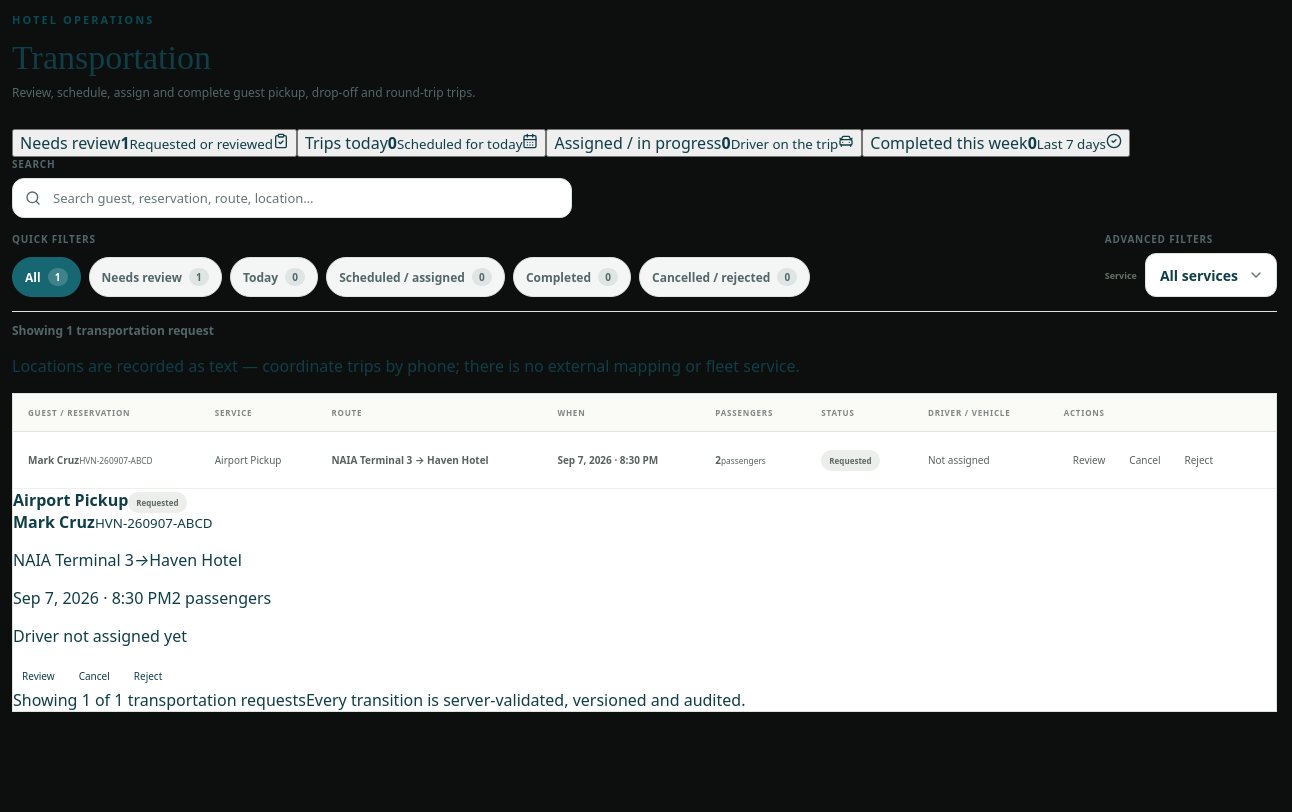
TransportationPanel render layer › differentiates a filtered empty state and recovers via Clear filters
Check: the text "Mark Cruz" below "Guest / reservation" is shown, box [28, 453, 79, 467]
Step 1. Type "nowhere" into the search field named "Search transportation requests" → point(292, 198), box [12, 178, 572, 218]
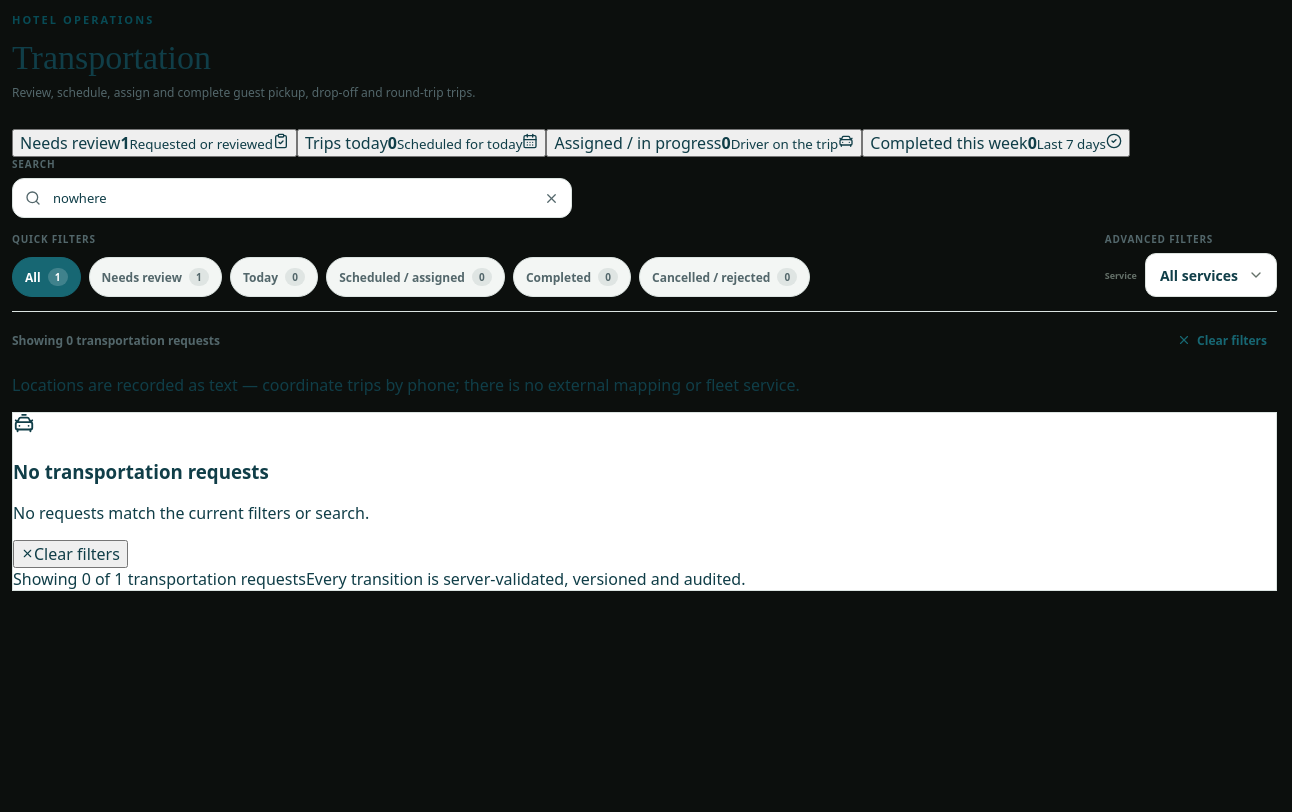
Check: the text "No requests match the current filters or search." is shown, box [13, 502, 369, 524]
Step 2. Click the button "Clear filters" below "Advanced filters" → point(1222, 340), box [1167, 322, 1277, 358]
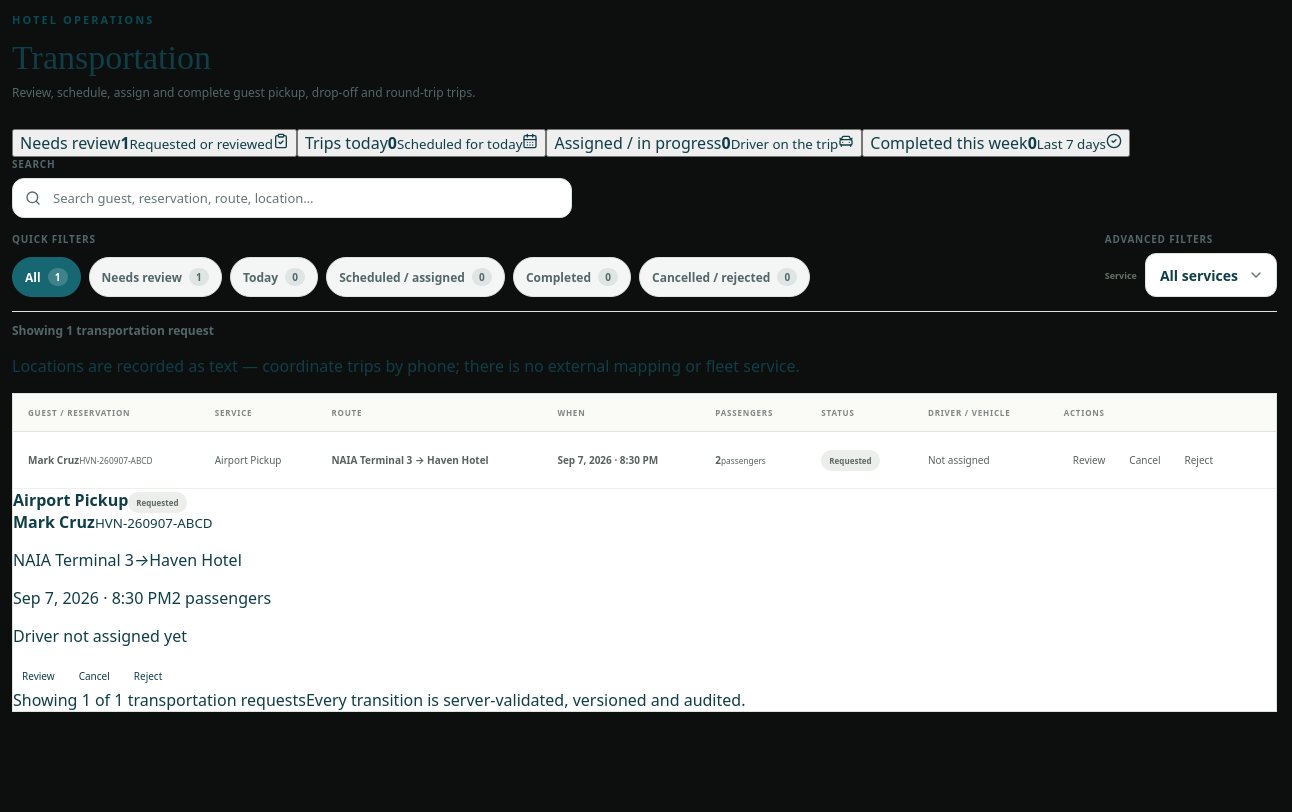
Check: the text "Mark Cruz" below "Guest / reservation" is shown, box [28, 453, 79, 467]
